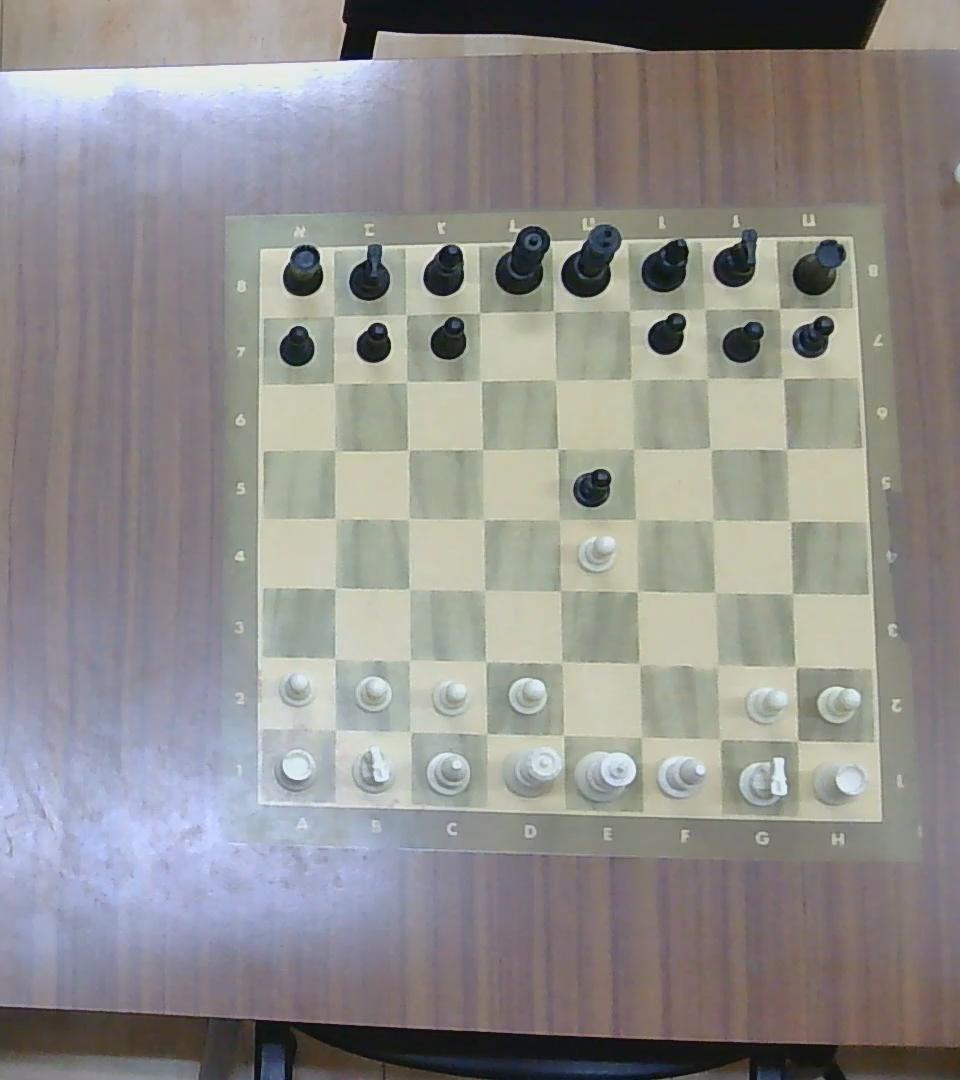xcorner: (312, 711, 352, 748), (542, 570, 578, 610), (770, 504, 812, 538), (458, 502, 501, 535), (693, 573, 733, 608), (544, 718, 581, 755), (618, 572, 656, 608), (315, 639, 350, 677), (621, 646, 659, 681), (466, 643, 502, 679), (464, 569, 500, 604), (318, 501, 352, 538), (618, 502, 656, 535), (765, 428, 802, 461), (464, 360, 495, 399), (388, 642, 425, 674), (466, 717, 504, 748), (311, 300, 347, 332), (390, 572, 426, 604), (776, 651, 814, 681), (774, 725, 812, 755), (687, 290, 720, 324), (693, 500, 728, 532), (316, 432, 350, 464), (318, 571, 350, 605), (700, 650, 734, 682), (620, 726, 661, 752), (545, 647, 578, 679), (395, 715, 429, 746), (535, 296, 572, 324), (616, 433, 650, 463), (704, 725, 741, 752), (763, 291, 796, 321), (388, 300, 422, 329), (611, 292, 641, 324), (320, 364, 349, 397), (544, 506, 578, 534), (393, 506, 426, 533), (460, 438, 498, 461), (618, 362, 648, 391), (394, 436, 424, 465), (543, 431, 571, 462), (537, 367, 570, 393), (778, 578, 808, 606), (695, 430, 722, 460), (768, 363, 796, 389), (392, 365, 416, 395), (462, 300, 490, 325), (692, 365, 721, 389)
